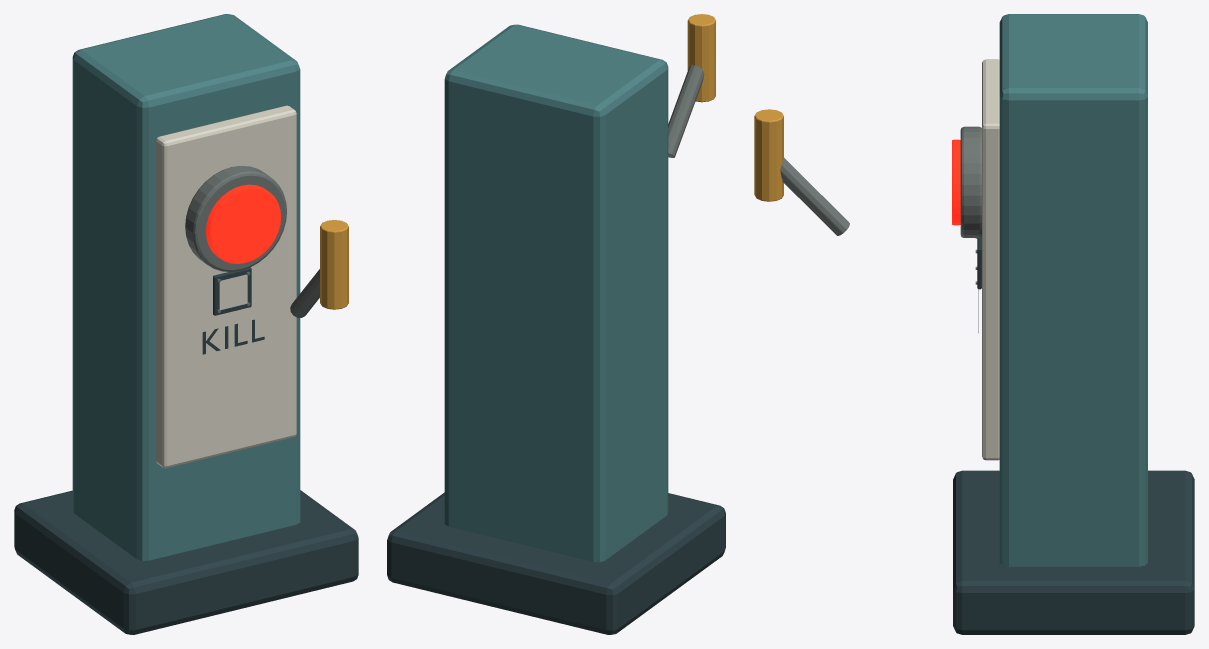
The model's file is core-kill-switch.glb.
The picture shows the model from 3 angles, left to right: view 1: azimuth 30°, elevation 25°; view 2: azimuth 150°, elevation 25°; view 3: azimuth 270°, elevation 25°; orthographic projection. The views are drawn at different scales.
Parts seen in each view (by area): view 1: core-kill-switch__core-kill-switch__petrol, core-kill-switch__core-kill-switch__ivory, core-kill-switch__core-kill-switch__steel, core-kill-switch__core-kill-switch__danger-red, core-kill-switch__core-kill-switch__hardware, core-kill-switch__activation-lever__amber, core-kill-switch__core-kill-switch__decal-ivory, core-kill-switch__activation-lever__hardware; view 2: core-kill-switch__core-kill-switch__petrol, core-kill-switch__core-kill-switch__steel, core-kill-switch__activation-lever__amber, core-kill-switch__activation-lever__hardware; view 3: core-kill-switch__core-kill-switch__petrol, core-kill-switch__core-kill-switch__steel, core-kill-switch__core-kill-switch__ivory, core-kill-switch__activation-lever__amber, core-kill-switch__core-kill-switch__hardware, core-kill-switch__activation-lever__hardware, core-kill-switch__core-kill-switch__danger-red.
Boxes of the visible parts, x1,y1,x2,y2 form: core-kill-switch__core-kill-switch__petrol: [72, 14, 300, 560]; core-kill-switch__core-kill-switch__ivory: [156, 105, 296, 468]; core-kill-switch__core-kill-switch__steel: [14, 267, 358, 634]; core-kill-switch__core-kill-switch__danger-red: [206, 184, 281, 263]; core-kill-switch__core-kill-switch__hardware: [185, 166, 286, 313]; core-kill-switch__activation-lever__amber: [320, 220, 348, 309]; core-kill-switch__core-kill-switch__decal-ivory: [219, 274, 247, 309]; core-kill-switch__activation-lever__hardware: [290, 269, 319, 317]; core-kill-switch__core-kill-switch__petrol: [444, 24, 668, 562]; core-kill-switch__core-kill-switch__steel: [387, 492, 725, 634]; core-kill-switch__activation-lever__amber: [687, 14, 715, 102]; core-kill-switch__activation-lever__hardware: [668, 64, 704, 157]; core-kill-switch__core-kill-switch__petrol: [999, 14, 1147, 566]; core-kill-switch__core-kill-switch__steel: [953, 237, 1194, 634]; core-kill-switch__core-kill-switch__ivory: [982, 59, 999, 460]; core-kill-switch__activation-lever__amber: [754, 109, 783, 201]; core-kill-switch__core-kill-switch__hardware: [960, 126, 981, 284]; core-kill-switch__activation-lever__hardware: [780, 158, 849, 235]; core-kill-switch__core-kill-switch__danger-red: [952, 139, 960, 225].
Size of the model in its own units: 0.75 by 1.57 by 1.18.
